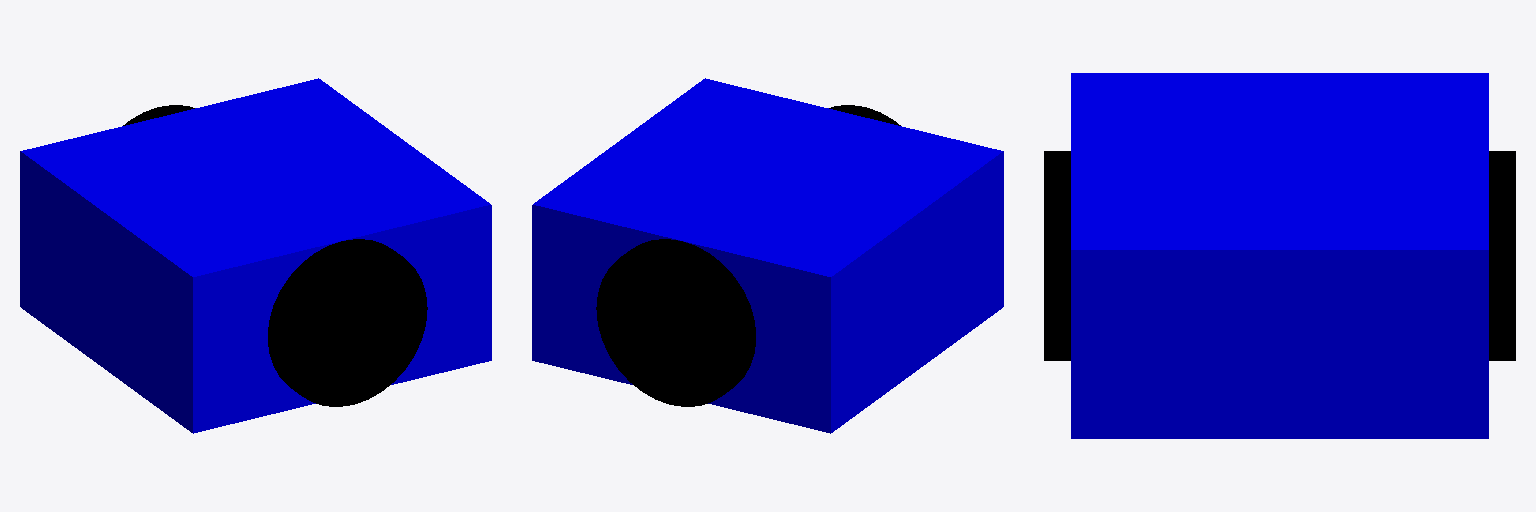
robot.urdf — simple_robot:
<?xml version="1.0"?>
<robot name="simple_robot">
  
  <!-- Базовые параметры -->
  <link name="base_link">
    <visual>
      <geometry>
        <box size="0.4 0.4 0.2"/>
      </geometry>
      <material name="blue">
        <color rgba="0 0 1 1"/>
      </material>
    </visual>
    <collision>
      <geometry>
        <box size="0.4 0.4 0.2"/>
      </geometry>
    </collision>
    <inertial>
      <mass value="10"/>
      <inertia ixx="0.1" ixy="0" ixz="0" iyy="0.1" iyz="0" izz="0.1"/>
    </inertial>
  </link>

  <!-- Левое колесо -->
  <link name="left_wheel">
    <visual>
      <geometry>
        <cylinder radius="0.1" length="0.05"/>
      </geometry>
      <material name="black">
        <color rgba="0 0 0 1"/>
      </material>
    </visual>
    <collision>
      <geometry>
        <cylinder radius="0.1" length="0.05"/>
      </geometry>
    </collision>
    <inertial>
      <mass value="1"/>
      <inertia ixx="0.01" ixy="0" ixz="0" iyy="0.01" iyz="0" izz="0.01"/>
    </inertial>
  </link>

  <!-- Правое колесо -->
  <link name="right_wheel">
    <visual>
      <geometry>
        <cylinder radius="0.1" length="0.05"/>
      </geometry>
      <material name="black">
        <color rgba="0 0 0 1"/>
      </material>
    </visual>
    <collision>
      <geometry>
        <cylinder radius="0.1" length="0.05"/>
      </geometry>
    </collision>
    <inertial>
      <mass value="1"/>
      <inertia ixx="0.01" ixy="0" ixz="0" iyy="0.01" iyz="0" izz="0.01"/>
    </inertial>
  </link>

  <!-- Соединение левого колеса -->
  <joint name="left_wheel_joint" type="continuous">
    <parent link="base_link"/>
    <child link="left_wheel"/>
    <origin xyz="0 0.2 0" rpy="-1.5708 0 0"/>
    <axis xyz="0 1 0"/>
  </joint>

  <!-- Соединение правого колеса -->
  <joint name="right_wheel_joint" type="continuous">
    <parent link="base_link"/>
    <child link="right_wheel"/>
    <origin xyz="0 -0.2 0" rpy="-1.5708 0 0"/>
    <axis xyz="0 1 0"/>
  </joint>

  <!-- Gazebo плагины -->
  <gazebo>
    <plugin name="differential_drive_controller" filename="libgazebo_ros_diff_drive.so">
      <!-- ROS параметры -->
      <ros>
        <namespace>/</namespace>
      </ros>
      <!-- Топик для команд движения -->
      <commandTopic>cmd_vel</commandTopic>
      <!-- Топик для одометрии -->
      <odometryTopic>odom</odometryTopic>
      <!-- Параметры колес -->
      <leftJoint>left_wheel_joint</leftJoint>
      <rightJoint>right_wheel_joint</rightJoint>
      <wheelSeparation>0.4</wheelSeparation>
      <wheelDiameter>0.2</wheelDiameter>
      <!-- Ограничения скорости и ускорения -->
      <wheelTorque>20</wheelTorque>
      <wheelAcceleration>1.0</wheelAcceleration>
      <!-- Публикация данных -->
      <publishOdom>true</publishOdom>
      <publishOdomTF>true</publishOdomTF>
      <publishWheelTF>true</publishWheelTF>
      <!-- Системы координат -->
      <odometryFrame>odom</odometryFrame>
      <robotBaseFrame>base_link</robotBaseFrame>
      <!-- Частота обновления -->
      <updateRate>20</updateRate>
    </plugin>
  </gazebo>

</robot>

--- Render facts (derived) ---
Views: 3 orthographic renders of the robot side by side, from view 1: azimuth 30°, elevation 25°; view 2: azimuth 150°, elevation 25°; view 3: azimuth 270°, elevation 25°.
Model simple_robot with 3 links and 2 joints (2 continuous), rooted at base_link, posed all joints at 0.
Visible links, largest first — view 1: base_link, right_wheel; view 2: base_link, left_wheel; view 3: base_link, left_wheel, right_wheel.
Boxes of the visible links, bbox=[...] form: base_link: bbox=[20, 78, 491, 433]; right_wheel: bbox=[268, 239, 427, 406]; base_link: bbox=[532, 78, 1003, 433]; left_wheel: bbox=[596, 239, 755, 406]; base_link: bbox=[1071, 73, 1488, 438]; left_wheel: bbox=[1489, 151, 1515, 360]; right_wheel: bbox=[1044, 151, 1070, 360].
Bounding box of the posed robot: 0.4 × 0.45 × 0.2 m (x, y, z).
Geometry: primitives only (box / cylinder / sphere), no mesh files.